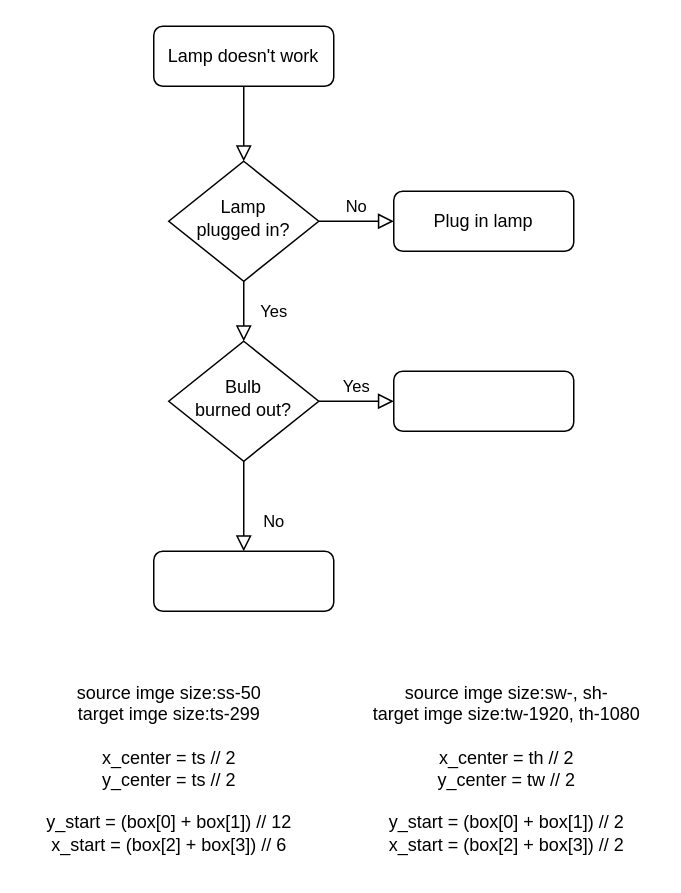
Some shapes in this 681 by 893 pixel diagram are drawn without their labels. The shapes that lost their labels are listed below. From the top down, each one's centre as x and y in pixels, then its label:
At point (483, 400): "Replace Bulb".
At point (243, 580): "Repair Lamp".
